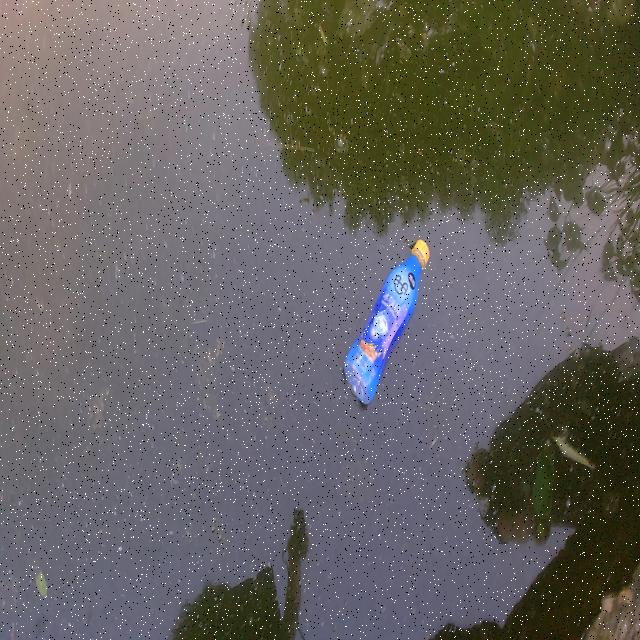Bottle: (343, 236, 431, 405)
